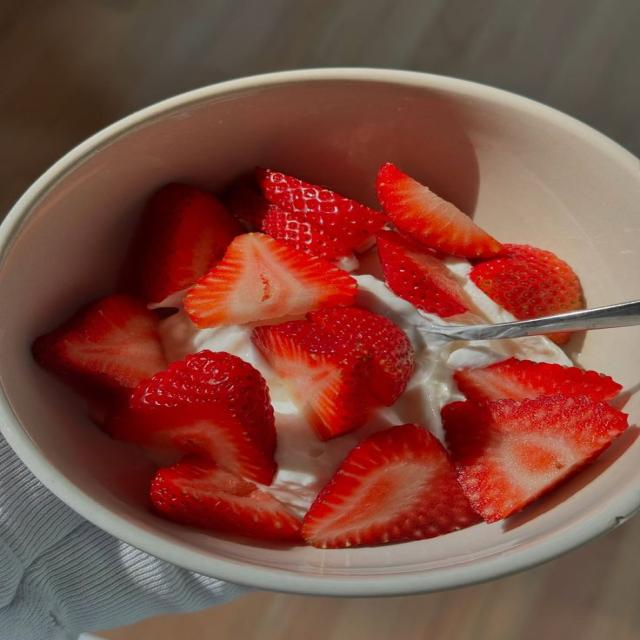strawberry sliced: (442, 395, 626, 522), (106, 351, 276, 484), (302, 425, 479, 548), (184, 233, 357, 328), (123, 184, 246, 304), (252, 321, 372, 440), (33, 294, 166, 394), (150, 457, 299, 541), (256, 168, 386, 259), (377, 164, 501, 257), (307, 307, 414, 405), (470, 244, 584, 319), (377, 231, 468, 317), (454, 358, 621, 401), (262, 203, 352, 260), (224, 177, 270, 230)
